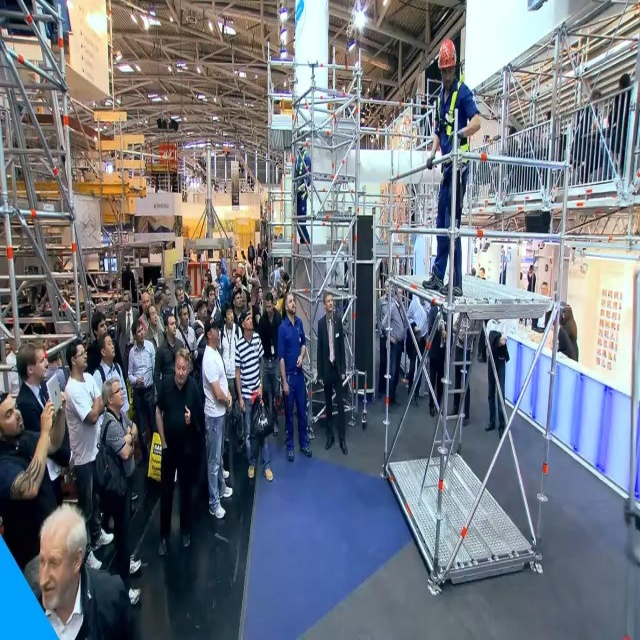Arnes_seguridad: (434, 78, 469, 175), (292, 148, 307, 193)
